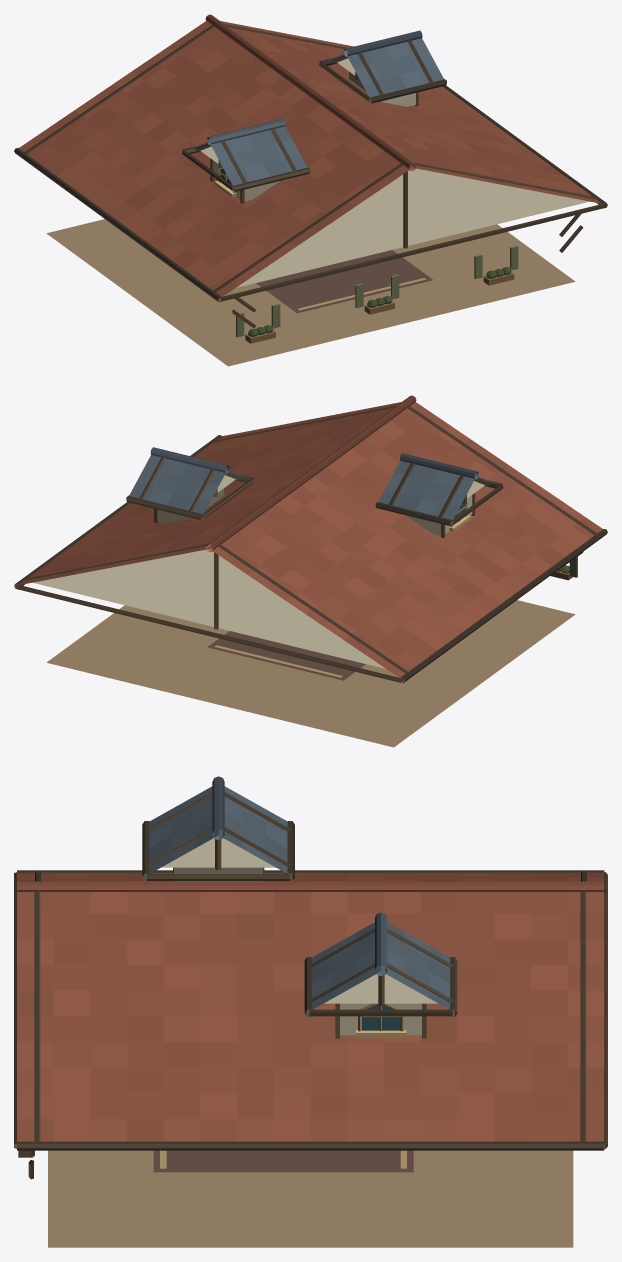
3 renders of one model, top to bottom at view 1: azimuth 30°, elevation 25°; view 2: azimuth 150°, elevation 25°; view 3: azimuth 270°, elevation 25°, orthographic. The views are drawn at different scales.
Visible parts, largest first — view 1: de4bd877019f166fdaa1eb8970b3402c8a2068128a49c2f16f24a0c1fb86; view 2: de4bd877019f166fdaa1eb8970b3402c8a2068128a49c2f16f24a0c1fb86; view 3: de4bd877019f166fdaa1eb8970b3402c8a2068128a49c2f16f24a0c1fb86.
Boxes of the visible parts, x1,y1,x2,y2 form: de4bd877019f166fdaa1eb8970b3402c8a2068128a49c2f16f24a0c1fb86: (14,14,607,366); de4bd877019f166fdaa1eb8970b3402c8a2068128a49c2f16f24a0c1fb86: (14,395,607,747); de4bd877019f166fdaa1eb8970b3402c8a2068128a49c2f16f24a0c1fb86: (14,776,607,1247).
Bounding box in the file's own units: 12.02 × 5.19 × 10.97.
6 materials, 1 textured.
